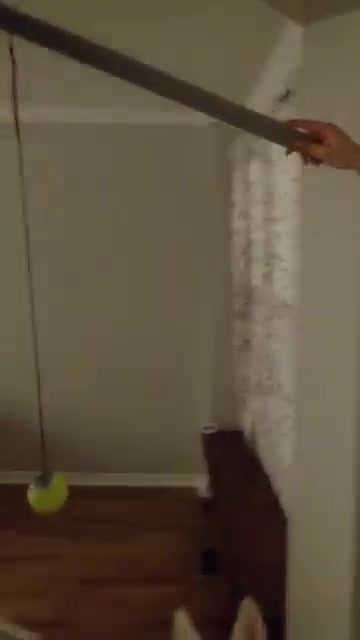tennis_ball: (24, 470, 73, 518)
